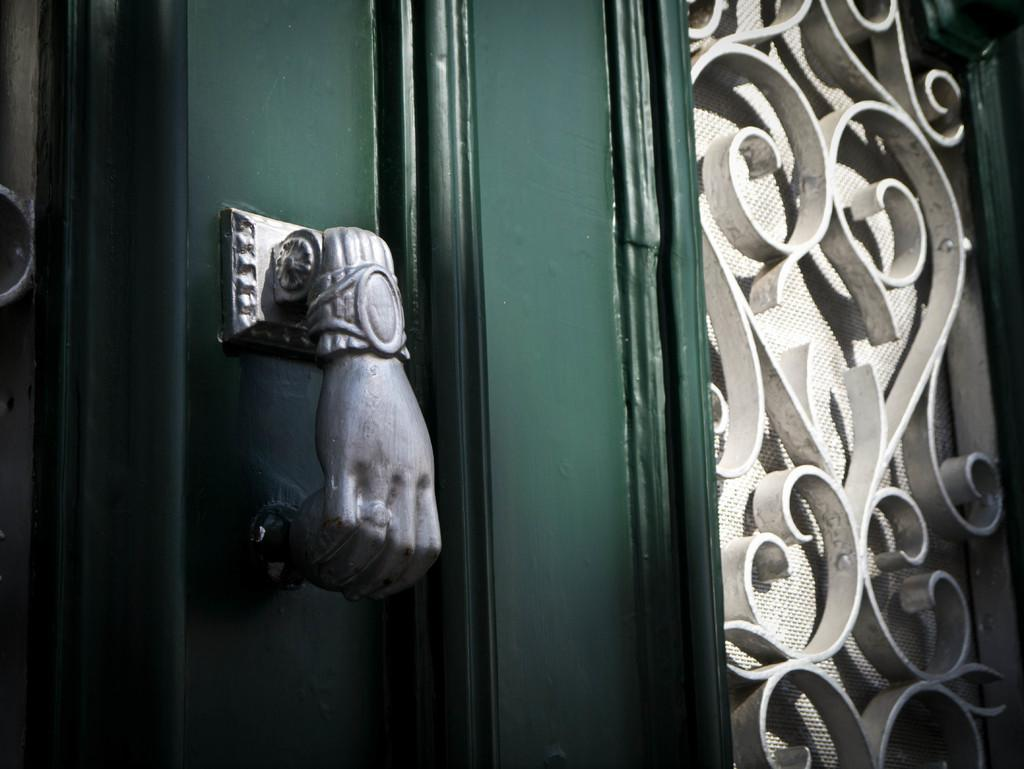door: (454, 0, 1024, 755)
handle: (210, 209, 446, 600)
